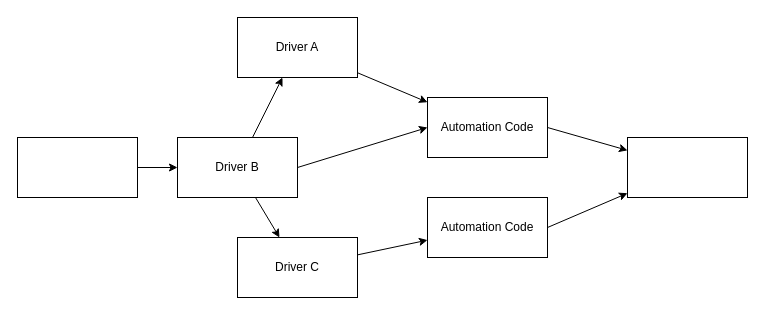
The diagram is 765 pixels wide and 315 high, and some of its shapes have lost their labels. Here are the shapes that lost their labels. From the top down, the centre of each, then its label:
pixel 77 167: Step Definition
pixel 687 167: Application
